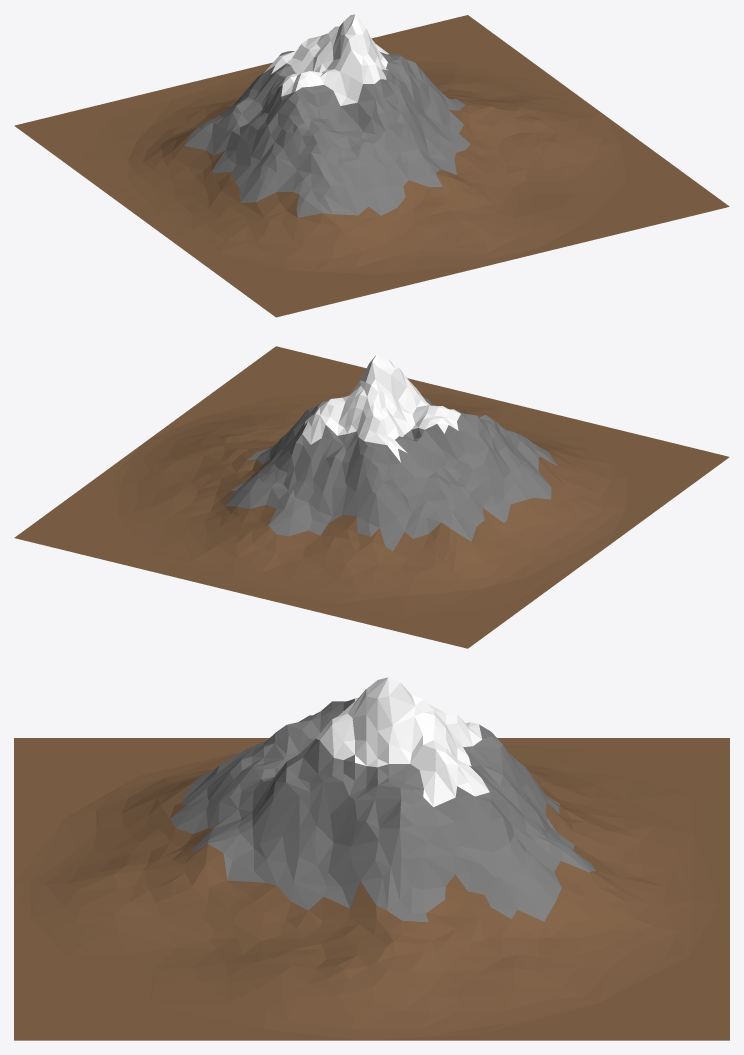
Rendered from mountain01.fbx.
3 views of the same model, one above another, from view 1: azimuth 30°, elevation 25°; view 2: azimuth 150°, elevation 25°; view 3: azimuth 270°, elevation 25° (orthographic). The views are drawn at different scales.
Visible parts, largest first — view 1: mountain01; view 2: mountain01; view 3: mountain01.
Boxes of the visible parts, box(x1,y1,x2,y2) form: mountain01: box(14, 14, 729, 317); mountain01: box(14, 346, 729, 648); mountain01: box(14, 677, 729, 1040).
Size of the model in its own units: 10000 by 3157 by 10000.
